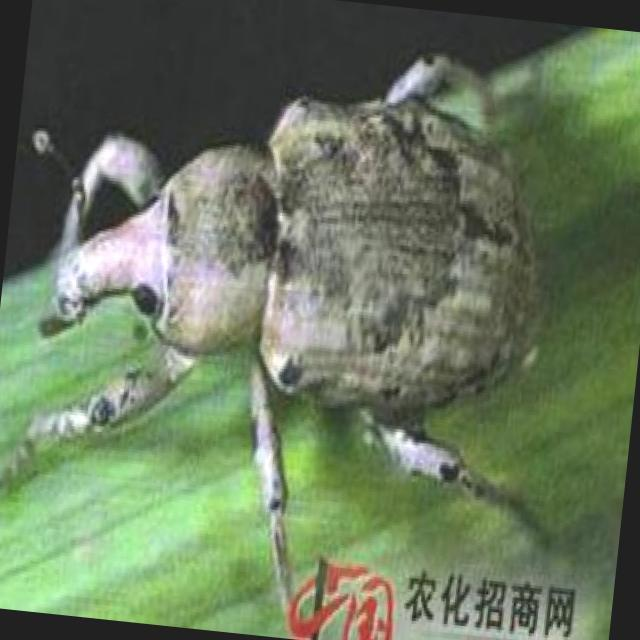ricebug: (19, 54, 532, 588)
